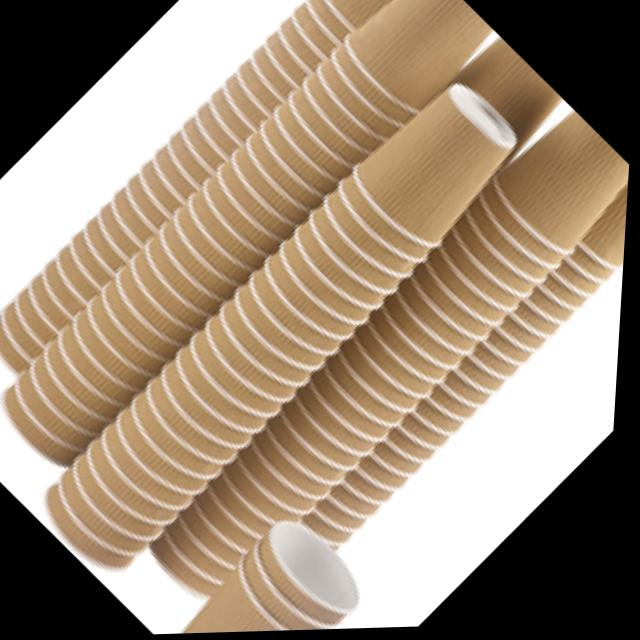paper_cups: (320, 69, 545, 291), (304, 0, 500, 156), (168, 504, 391, 635), (482, 106, 634, 272), (546, 152, 632, 284), (293, 0, 446, 74)
